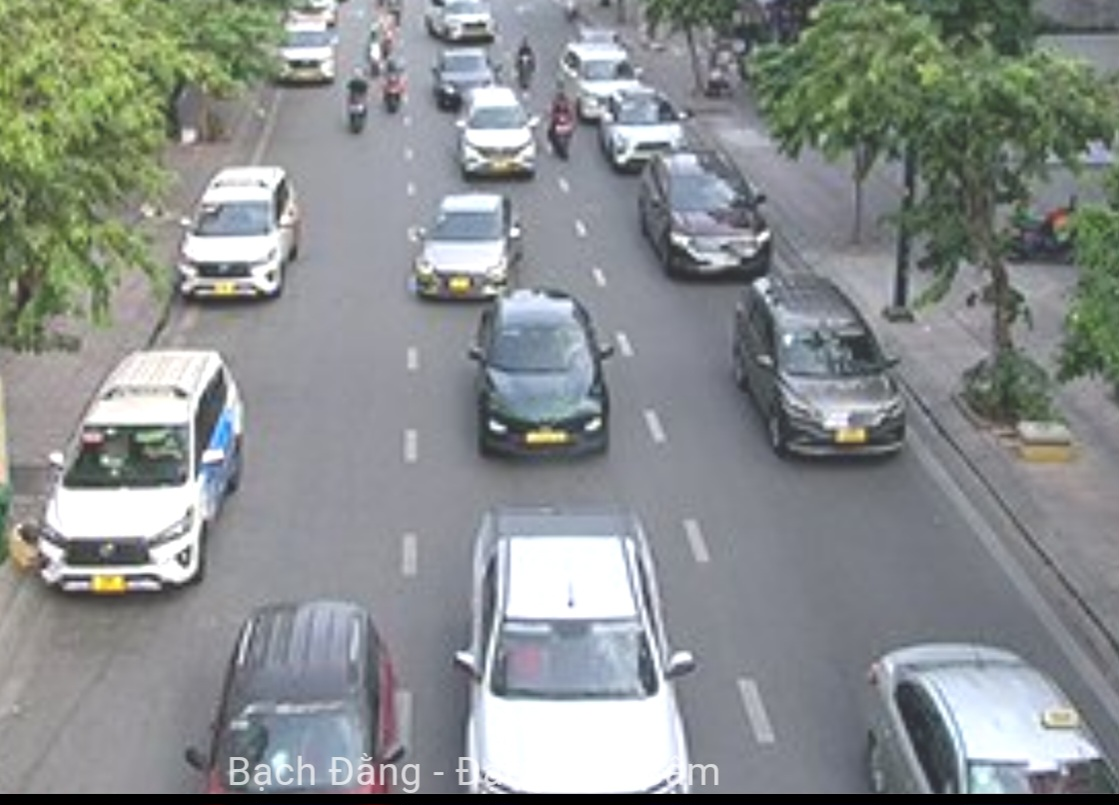car: (459, 511, 706, 805), (37, 348, 243, 596), (202, 602, 408, 805), (868, 649, 1119, 805), (731, 274, 909, 461), (475, 295, 606, 464), (639, 152, 772, 282), (175, 166, 301, 301), (415, 194, 523, 304), (461, 96, 538, 180), (605, 93, 681, 162), (274, 21, 337, 88), (558, 42, 642, 91), (440, 52, 499, 97)
